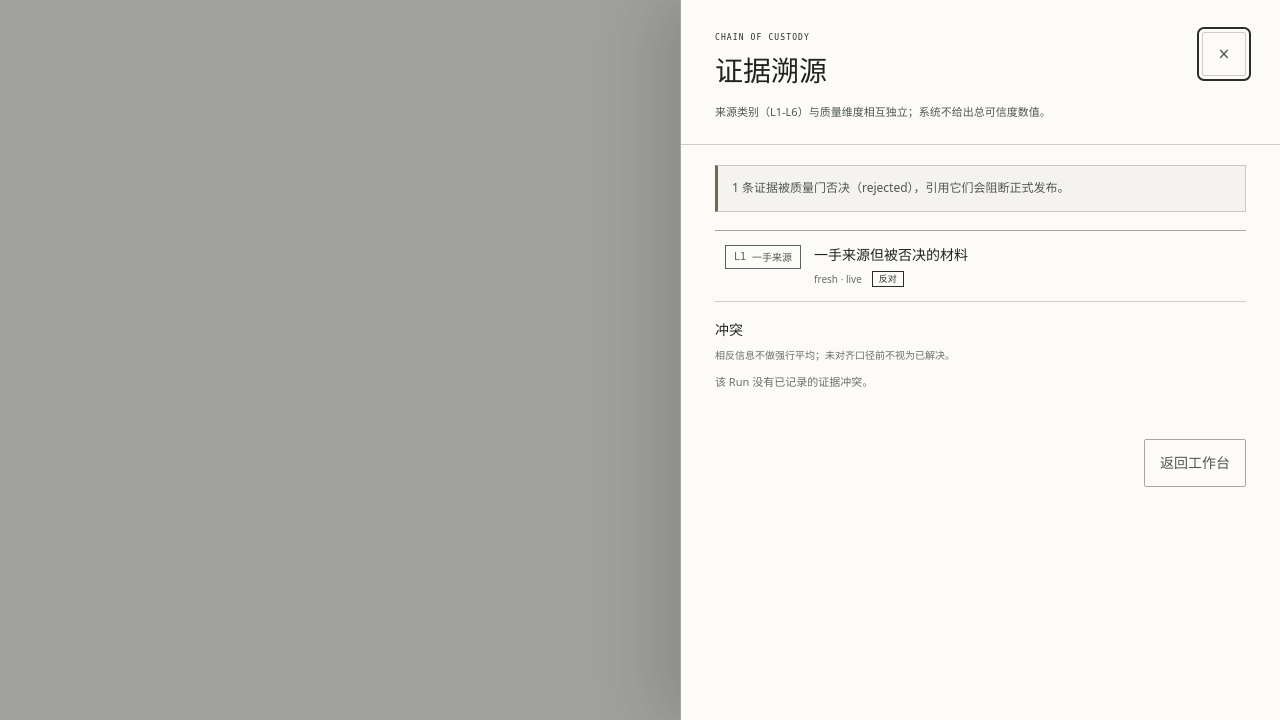
QA P1-P3: hostile envelopes and data shapes degrade honestly › P3: envelope without `data` on the five detail reads → detail error + retry; ledger stays intact
What coordinates should you click on to do the following:
click the button "L1 一手来源 一手来源但被否决的材料 fresh · live 反对"
I would click on:
 (763, 257)
Its box is [715,231,1246,302].
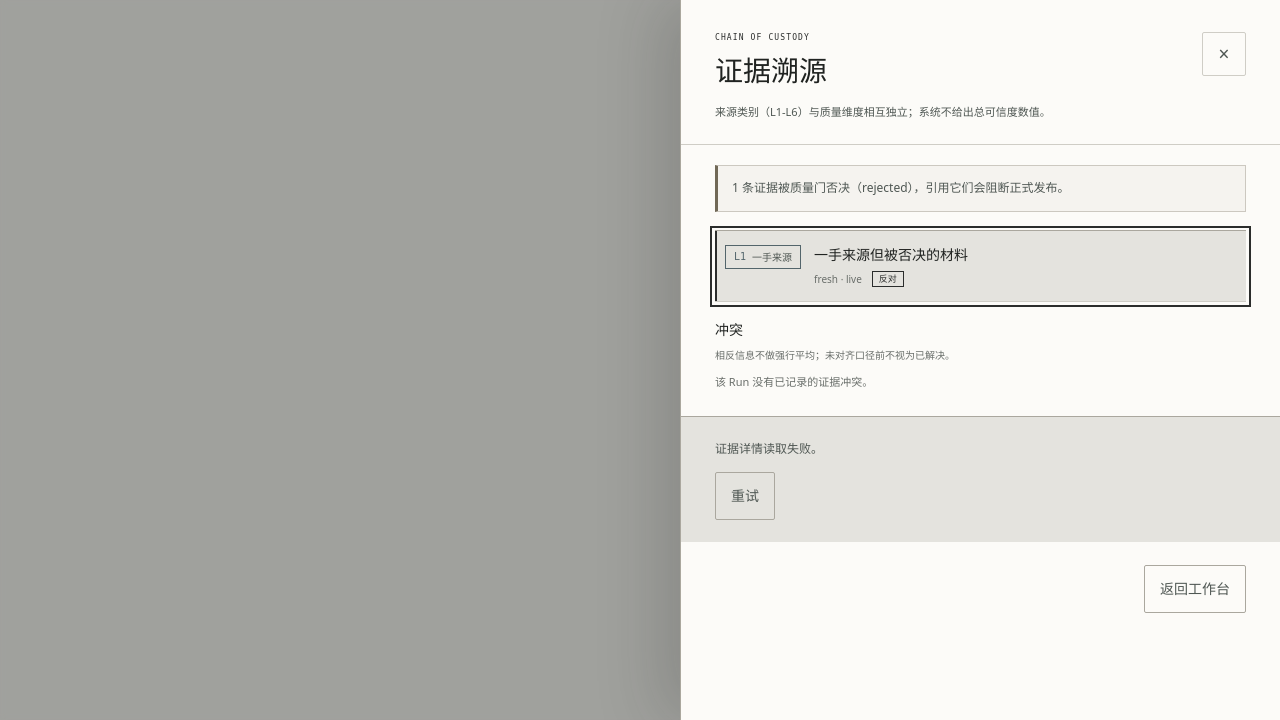
Expected: the text "证据详情读取失败。" is shown, [715,440,823,457]
